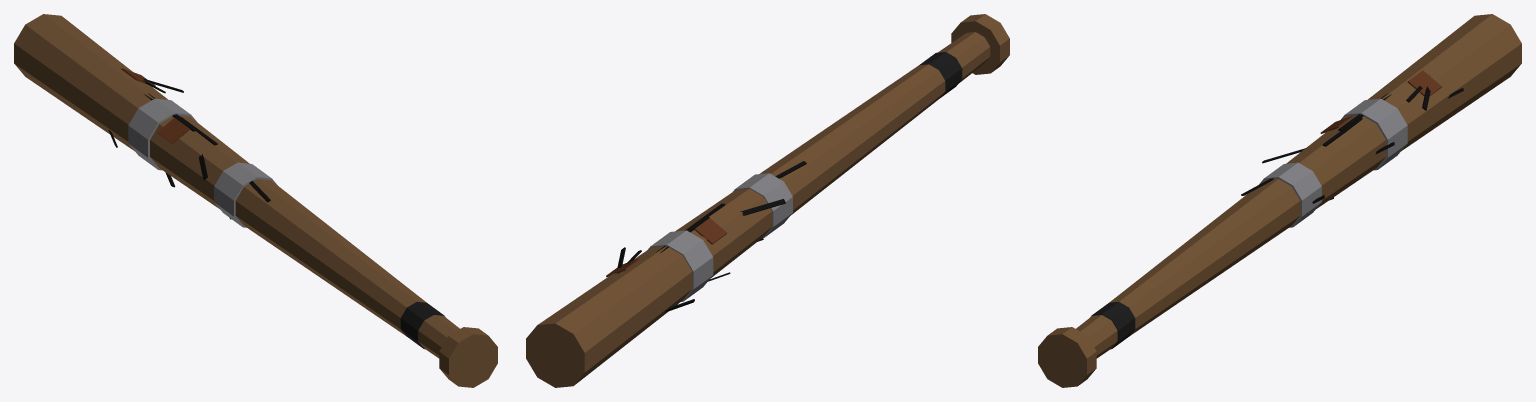
The model's file is bat_w2.glb.
3 renders of one model, left to right at view 1: azimuth 30°, elevation 25°; view 2: azimuth 150°, elevation 25°; view 3: azimuth 330°, elevation 25°, orthographic.
Visible parts, largest first — view 1: bat_w2; view 2: bat_w2; view 3: bat_w2.
Boxes of the visible parts, x1,y1,x2,y2 form: bat_w2: (14,14,497,387); bat_w2: (526,14,1009,387); bat_w2: (1038,14,1521,387).
Bounding box in the file's own units: 0.0851 × 0.072 × 0.87.
